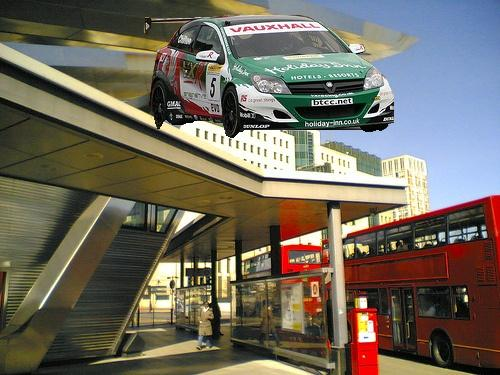tampered: (145, 16, 394, 138)
